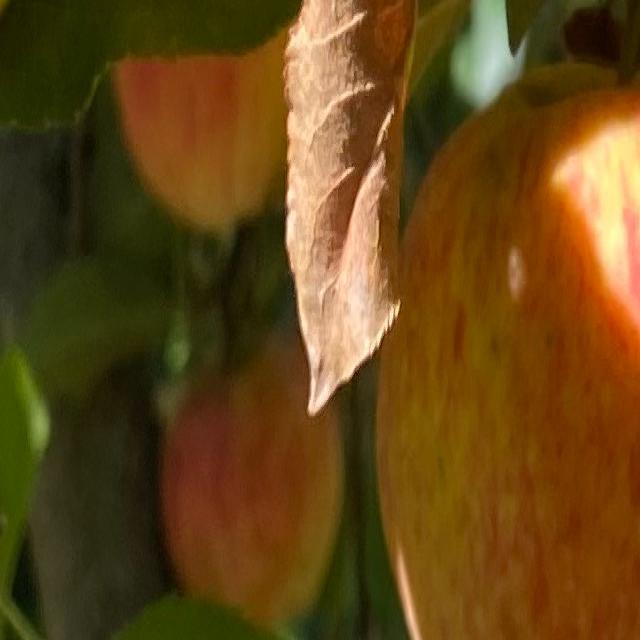Apples: (375, 66, 639, 638), (165, 327, 342, 629), (113, 21, 290, 231)
